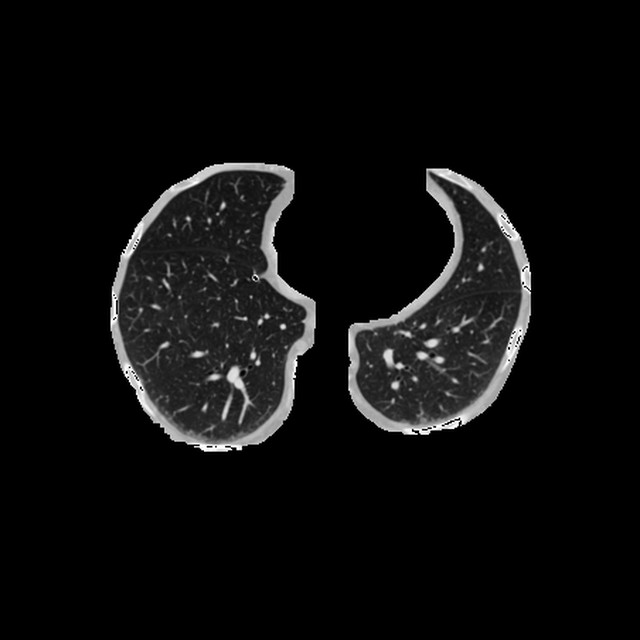PN: (252, 275, 258, 280)
